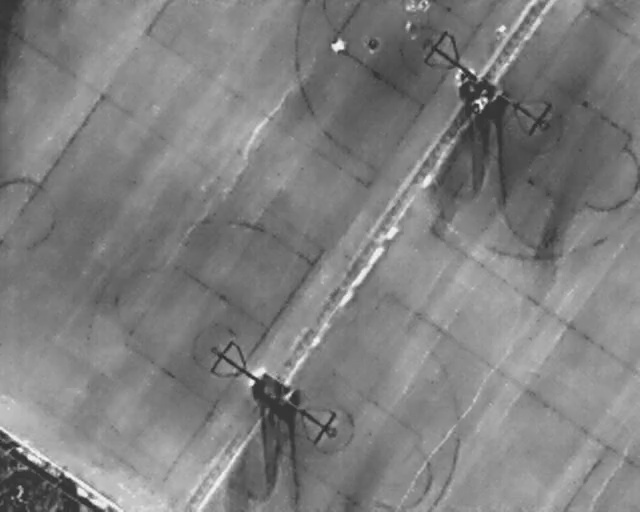Person: (467, 89, 493, 115), (362, 34, 382, 57), (491, 21, 510, 44), (402, 19, 420, 42), (454, 67, 477, 85), (330, 36, 347, 53), (416, 0, 432, 14), (403, 1, 419, 14)
